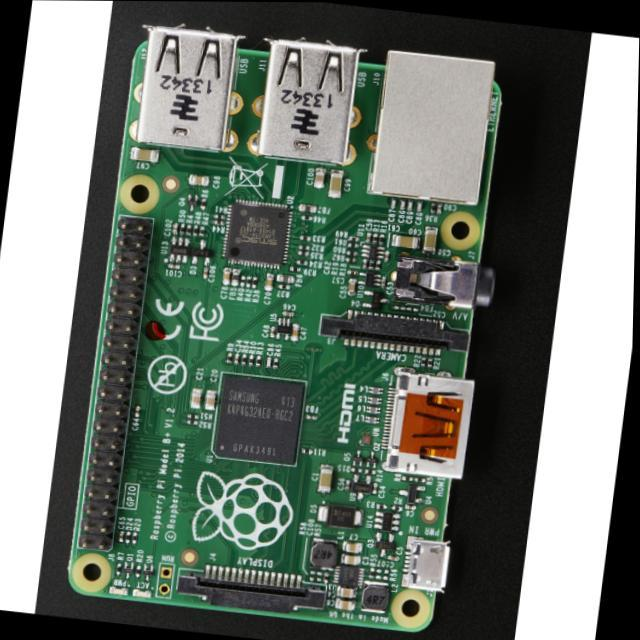Raspberry Pi 1 B-: (68, 27, 502, 632)
